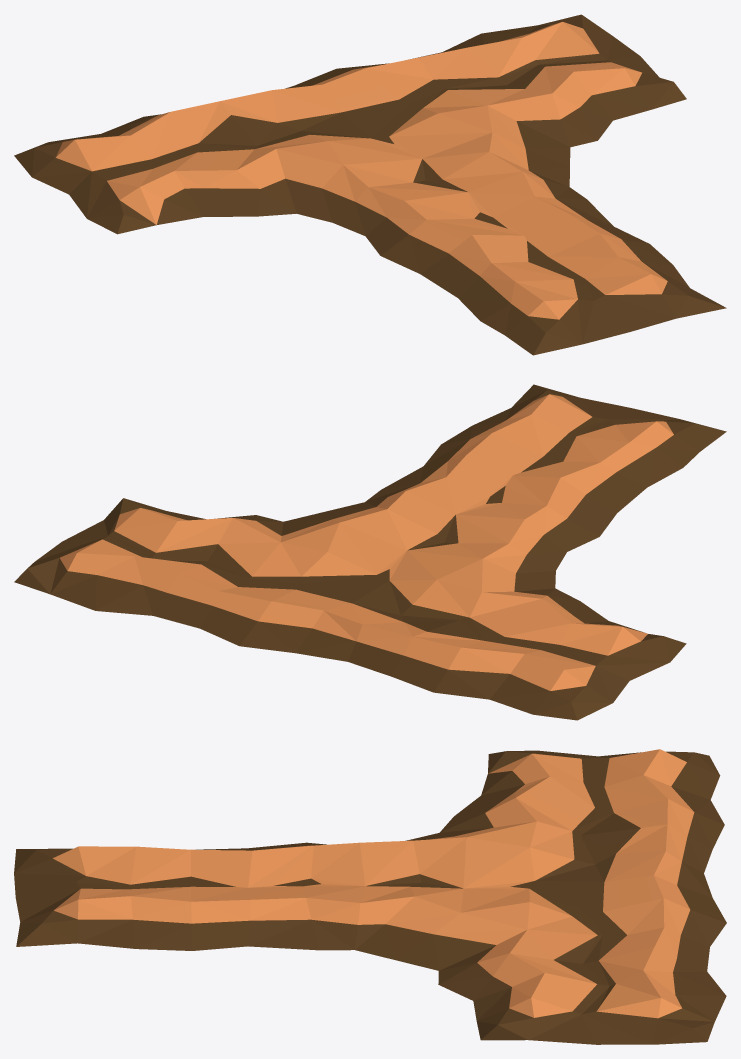
File: Road_Mud_3.fbx
3 renders of one model, top to bottom at view 1: azimuth 30°, elevation 25°; view 2: azimuth 150°, elevation 25°; view 3: azimuth 270°, elevation 25°, orthographic. The views are drawn at different scales.
Visible parts, largest first — view 1: Road_Mud_3; view 2: Road_Mud_3; view 3: Road_Mud_3.
Boxes of the visible parts, box(x1,y1,x2,y2) form: Road_Mud_3: box(14, 14, 726, 355); Road_Mud_3: box(14, 384, 726, 720); Road_Mud_3: box(14, 749, 726, 1044).
Bounding box in the file's own units: 16.36 × 0.7164 × 16.76.
